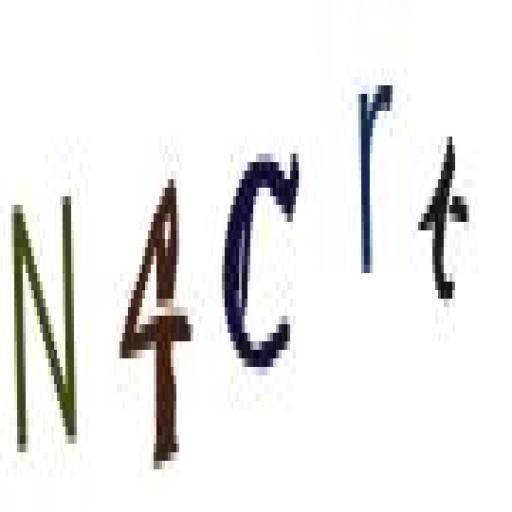4: (113, 152, 196, 487)
C: (215, 133, 305, 398)
N: (8, 165, 82, 485)
r: (354, 60, 397, 280)
t: (412, 104, 478, 342)
